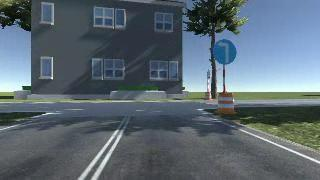turn_left: (211, 40, 236, 64)
